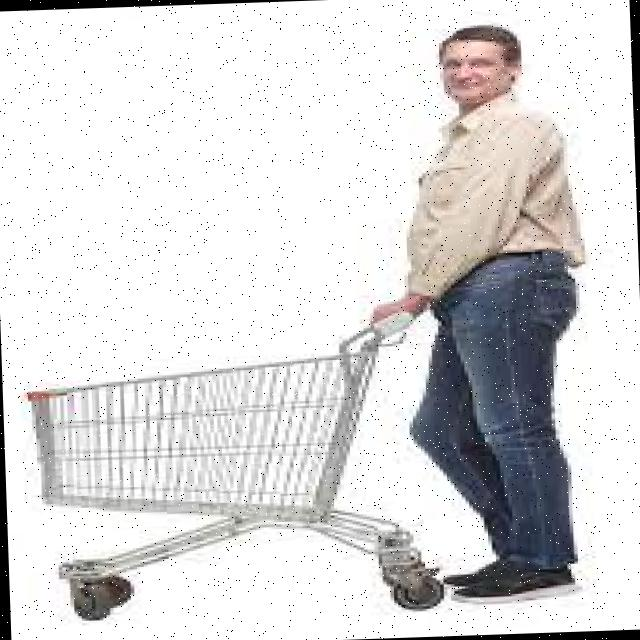Person: (359, 19, 594, 610)
